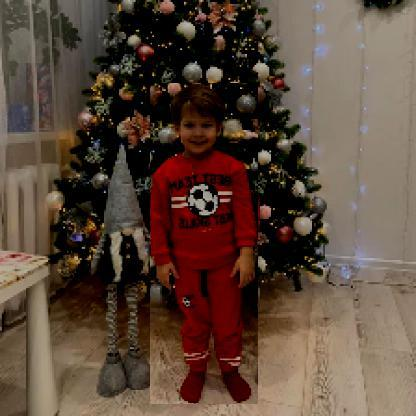child: (151, 84, 260, 406)
